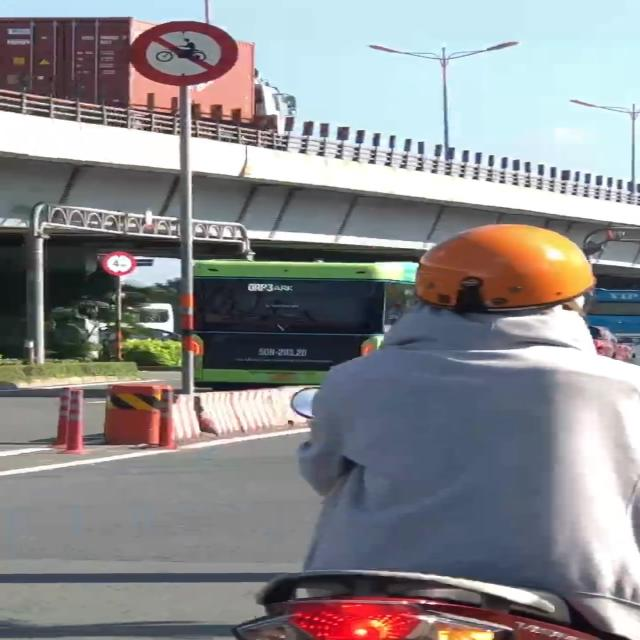Bien bao cam xe may: (120, 14, 248, 87)
